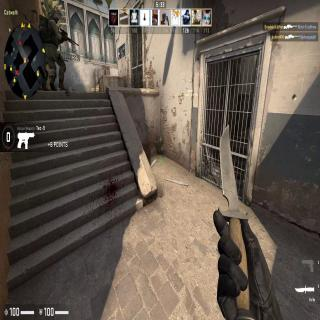CT-Body: (39, 7, 73, 93)
CT-Head: (48, 8, 60, 23)
